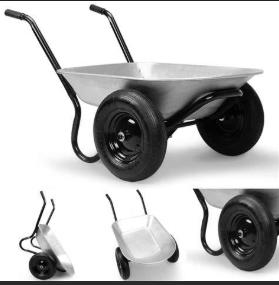BROUETTE: (7, 5, 278, 285)
